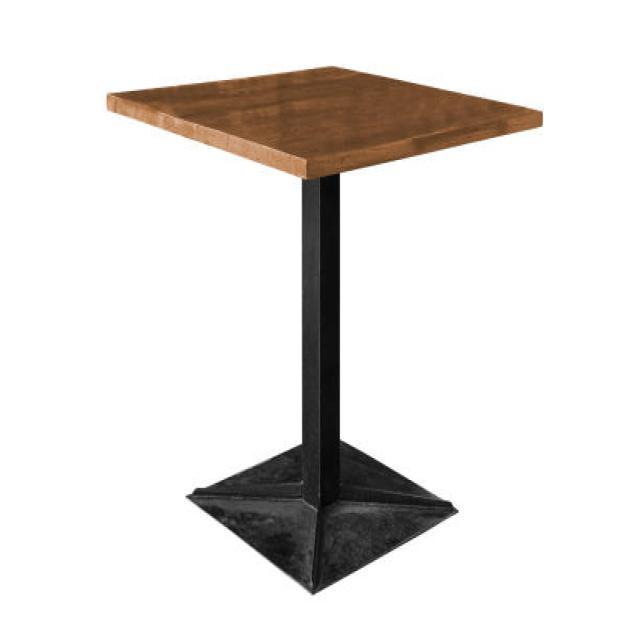table: (105, 62, 542, 594)
